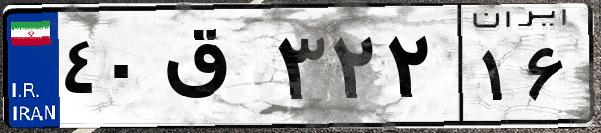0: (110, 28, 158, 98)
1: (475, 38, 525, 113)
2: (385, 28, 445, 110), (330, 28, 385, 110)
3: (270, 28, 330, 110)
4: (57, 26, 110, 100)
6: (525, 38, 570, 115)
ق: (158, 20, 270, 120)
